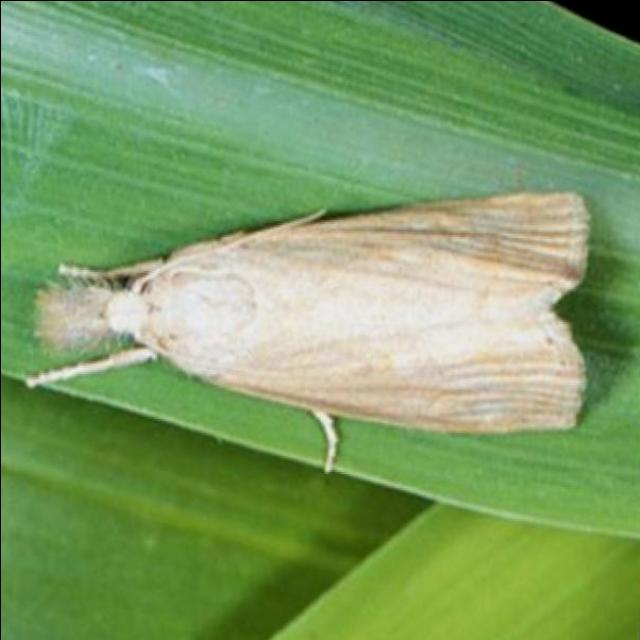stem borer: (16, 190, 596, 473)
